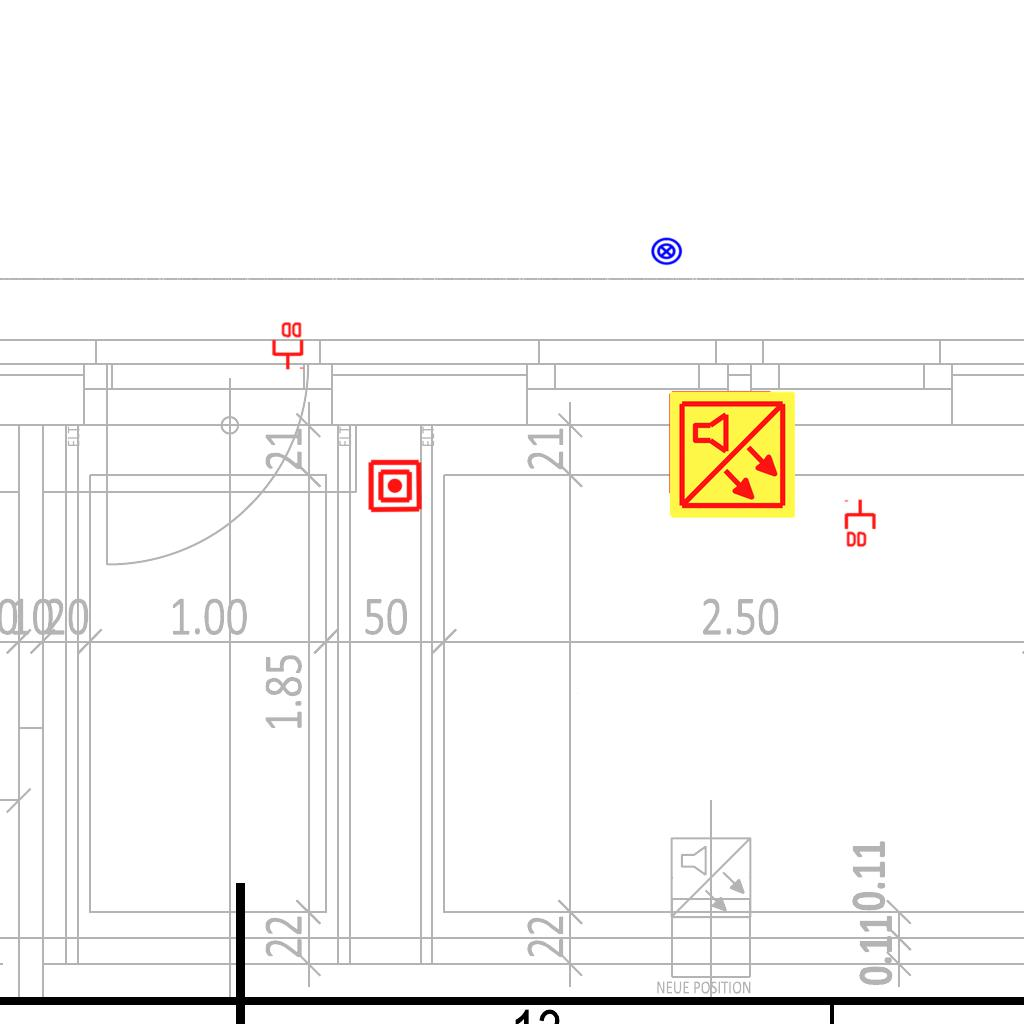Datenanschluss_zweifach: (270, 320, 304, 371), (844, 498, 878, 549)
NAM-Nichtautomatischer_Melder: (367, 458, 423, 514)
OKW_Multisensormelder_(Kombination_optischer_Rauch-Kahlenmonoxid_Waerme-Melder): (666, 389, 798, 521)
Taster_beleuchtet: (650, 235, 683, 268)
